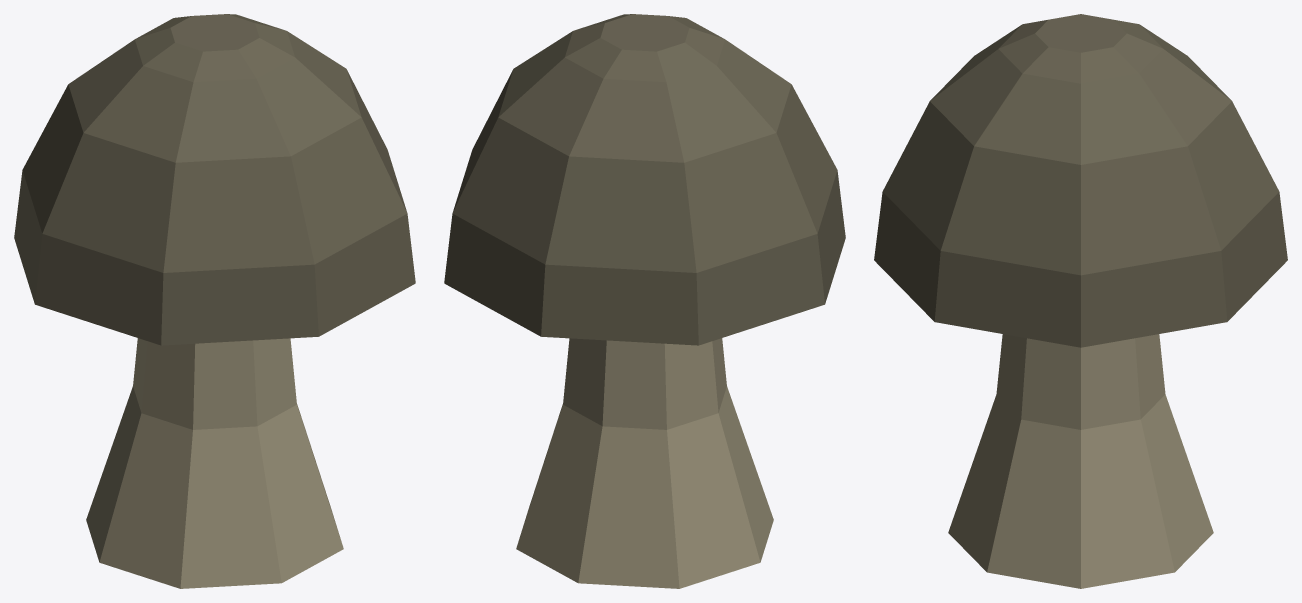
The model's file is MushSmall.glb.
3 views of the same model, side by side, from view 1: azimuth 30°, elevation 25°; view 2: azimuth 150°, elevation 25°; view 3: azimuth 270°, elevation 25° (orthographic).
Visible parts, largest first — view 1: Mush 2, Mush 2.001; view 2: Mush 2, Mush 2.001; view 3: Mush 2, Mush 2.001.
Boxes of the visible parts, box(x1,y1,x2,y2) form: Mush 2: box(14, 14, 415, 345); Mush 2.001: box(86, 338, 343, 588); Mush 2: box(444, 14, 845, 345); Mush 2.001: box(516, 338, 773, 588); Mush 2: box(874, 14, 1287, 347); Mush 2.001: box(948, 334, 1213, 588).
Bounding box in the file's own units: 0.6704 × 0.8923 × 0.6704.
